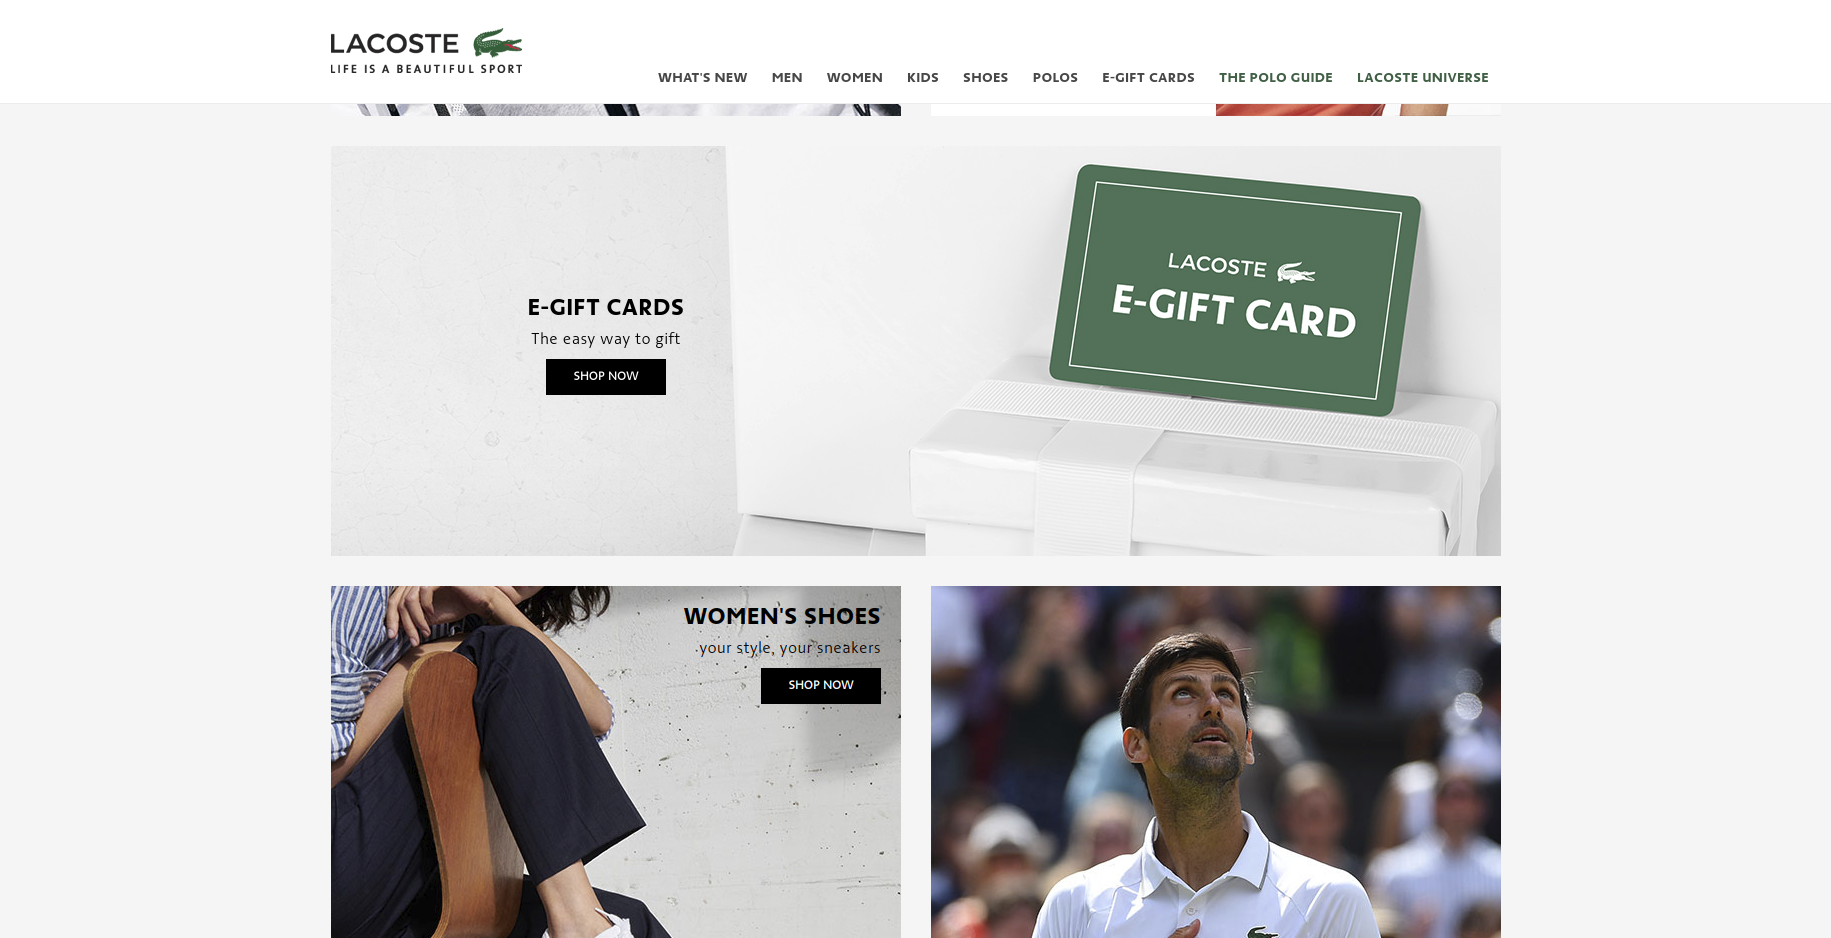Lacoste: (459, 24, 532, 62), (1269, 252, 1324, 293)
